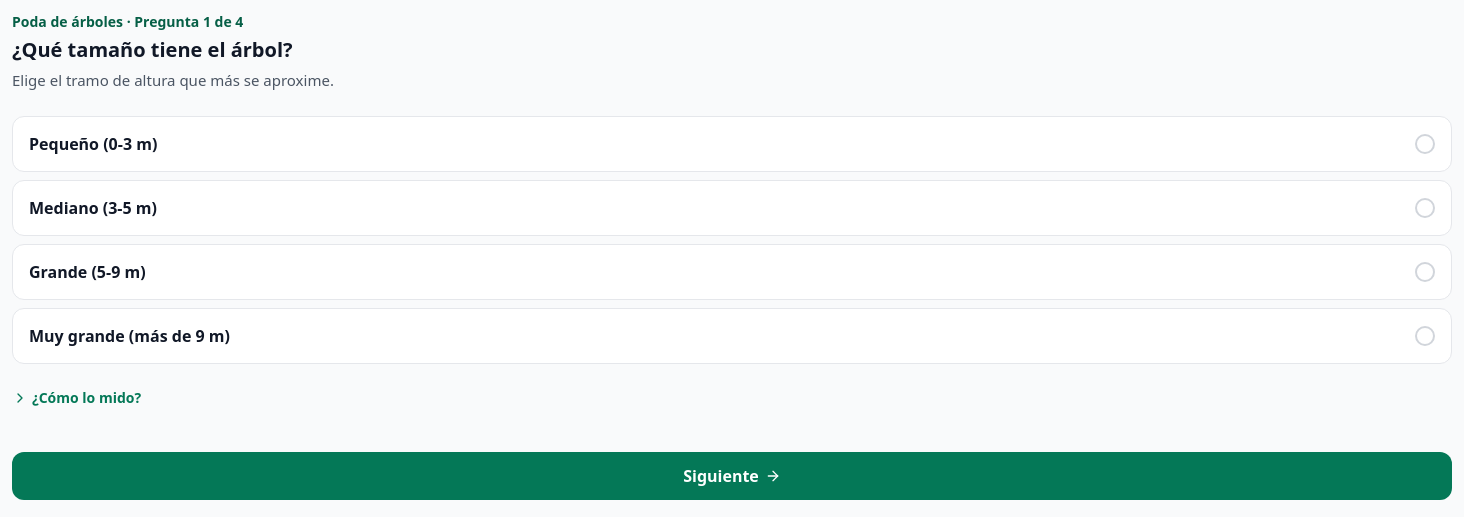
Test case: lista de opciones (T-05, T-06) y fila sí/no (T-11) › una columna; al seleccionar no aparece ni desaparece nada dentro de la opción
What coordinates should you click on to do the following:
click the radio button labelled "Mediano (3-5 m)"
I would click on:
 (93, 208)
Its box is [12,180,1452,236].
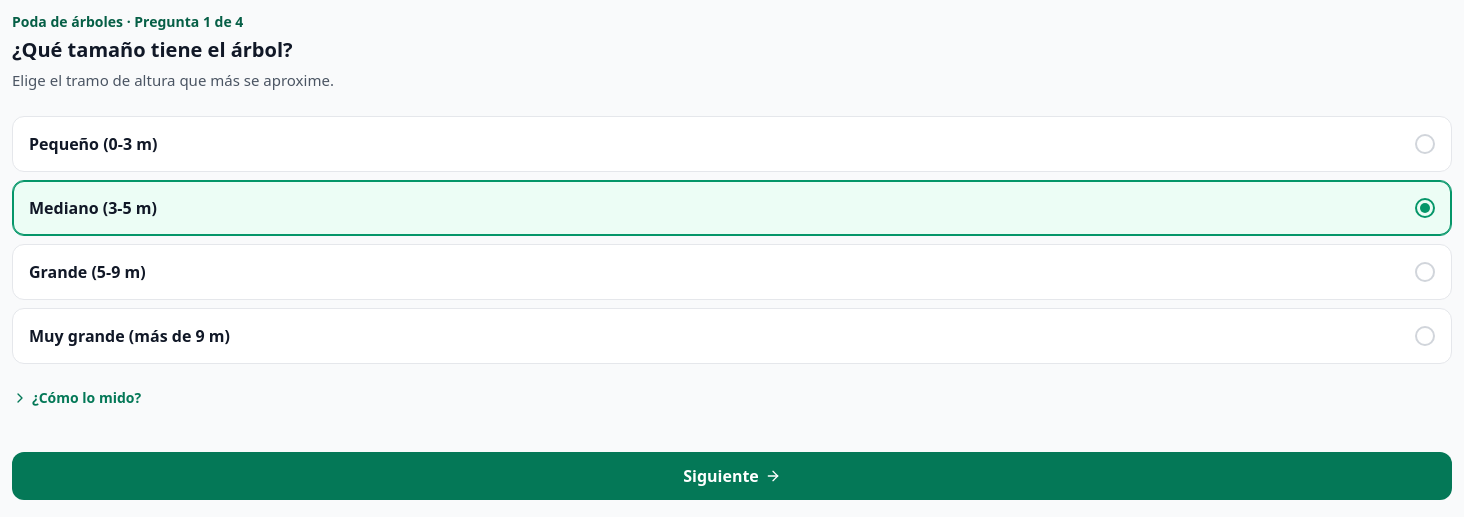
Check: the radio button labelled "Mediano (3-5 m)" is checked, box [12,180,1452,236]
